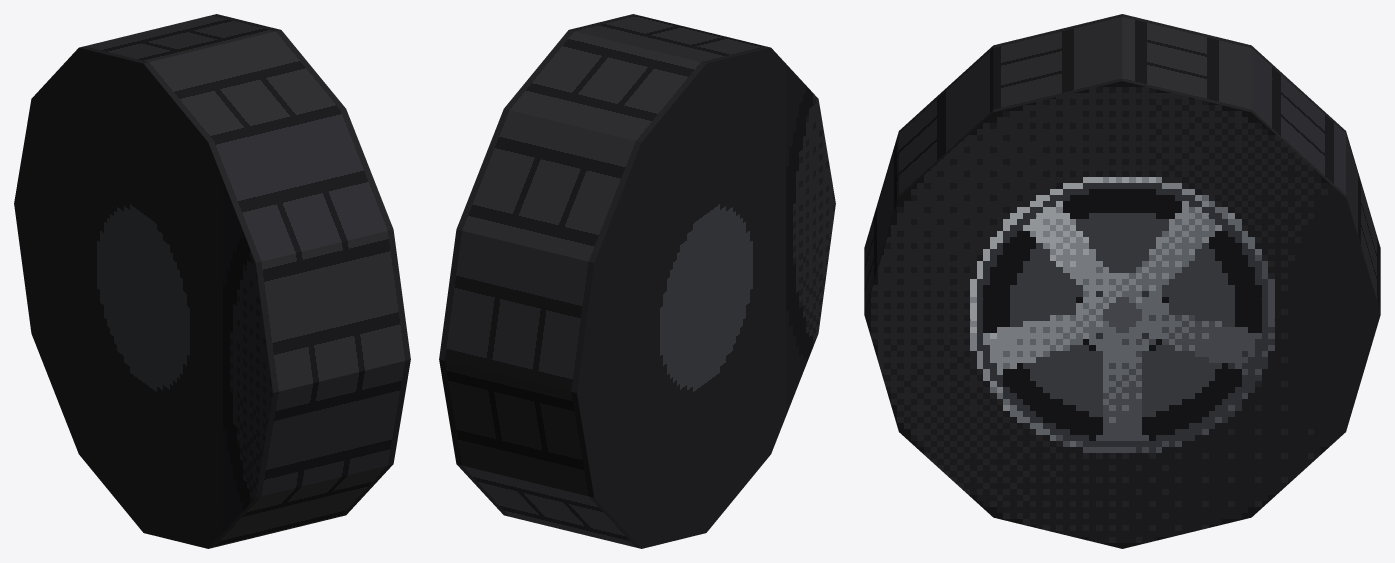
Rendered from wheel_stock.glb.
The picture shows the model from 3 angles, left to right: view 1: azimuth 30°, elevation 25°; view 2: azimuth 150°, elevation 25°; view 3: azimuth 270°, elevation 25°; orthographic projection.
Parts seen in each view (by area): view 1: wheel_stock; view 2: wheel_stock; view 3: wheel_stock.
Boxes of the visible parts, box(x1,y1,x2,y2) form: wheel_stock: box(14, 14, 410, 548); wheel_stock: box(439, 14, 835, 548); wheel_stock: box(864, 14, 1380, 548).
Bounding box in the file's own units: 0.195 × 0.6345 × 0.6345.
1 material, 1 textured.
